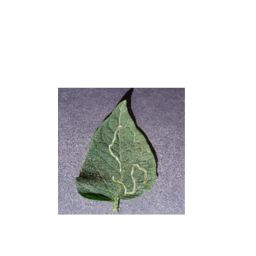liriomyza: (109, 164, 148, 196), (107, 124, 123, 173)
